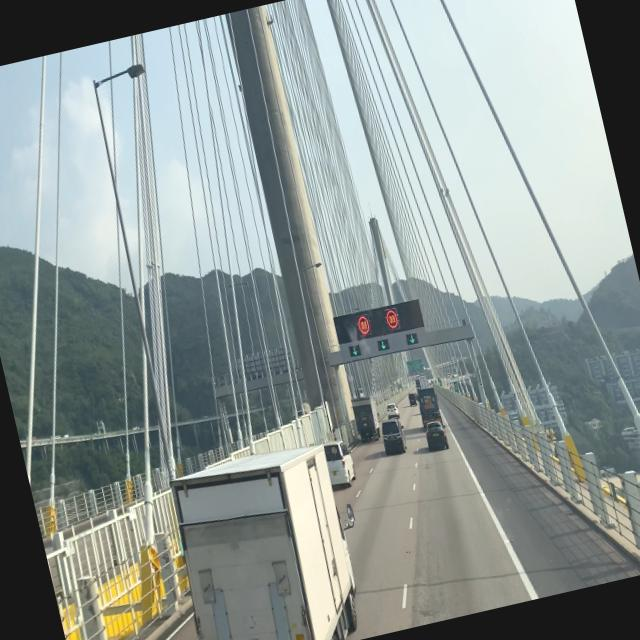Vehicle: (157, 439, 372, 640), (346, 393, 386, 446), (319, 434, 356, 490), (375, 413, 411, 457), (418, 413, 452, 455)
